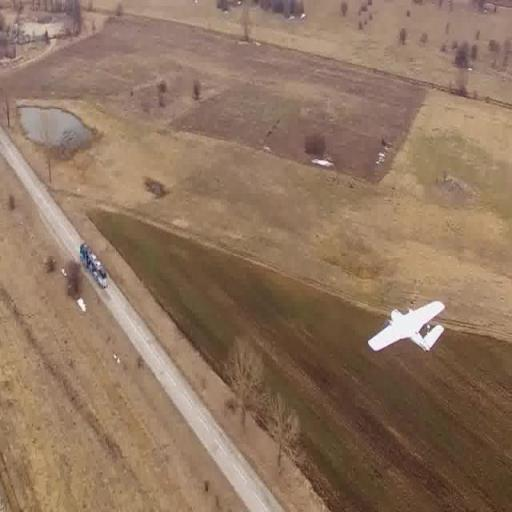uav: (366, 292, 448, 368)
